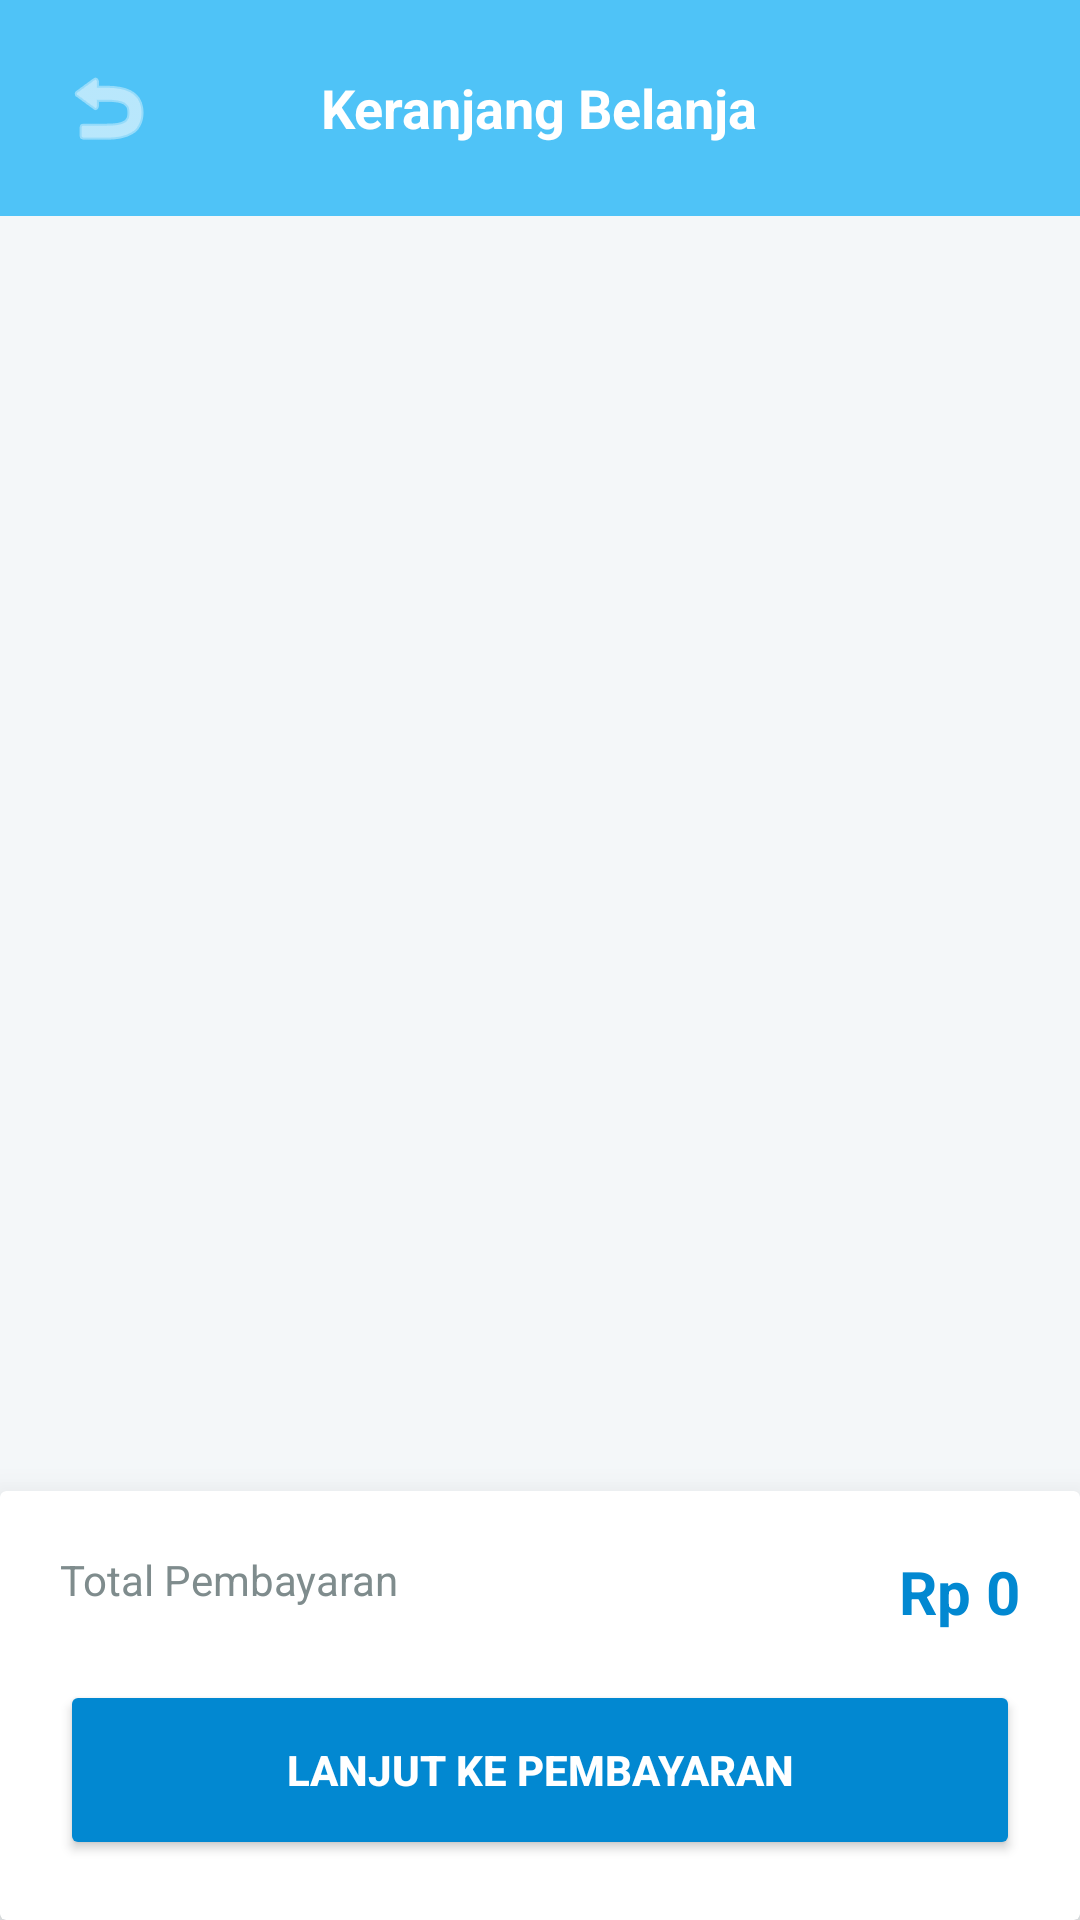

Icon click points for this 1080w x 1920h phone screenshot, format (x,y):
revert: (109,108)
